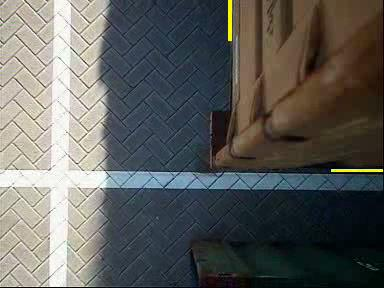groundmarker_2: (105, 175, 176, 232)
